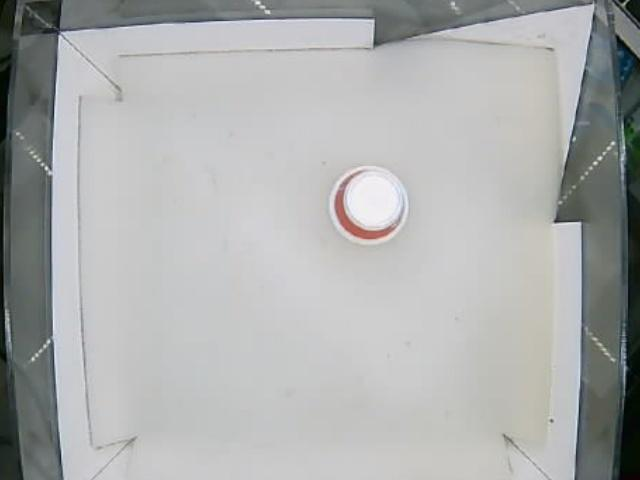Cup: (328, 162, 411, 249)
